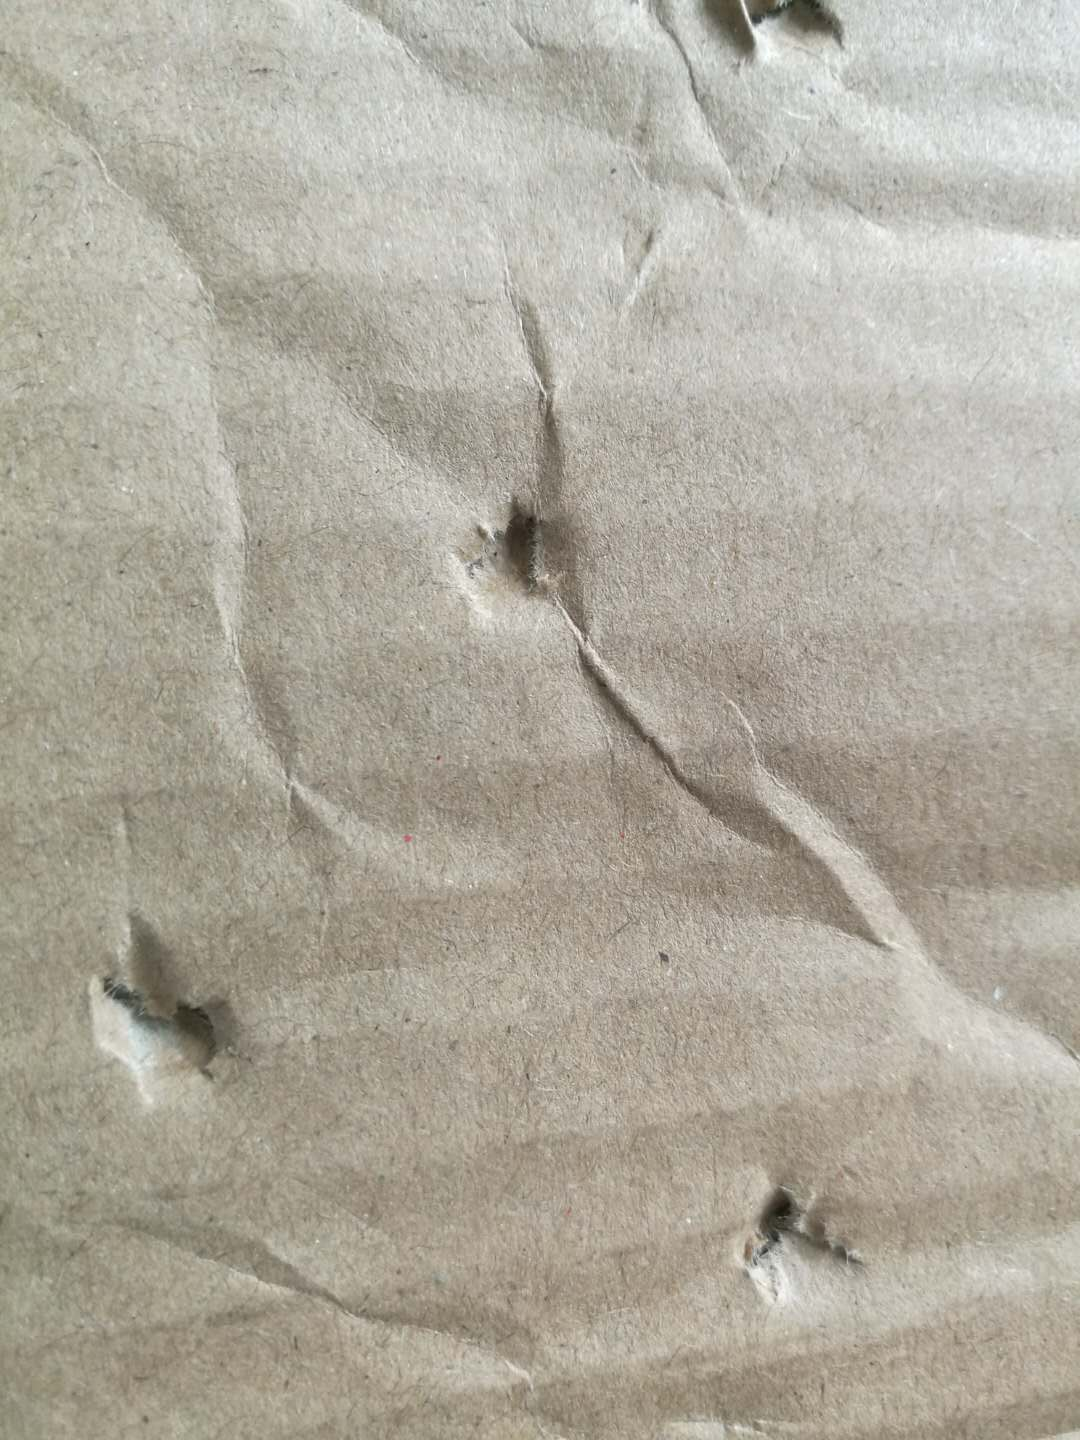defect: (455, 272, 1080, 1065), (5, 29, 463, 878), (74, 1184, 1080, 1440), (339, 1, 1080, 342), (51, 890, 282, 1155), (700, 1155, 885, 1313)
